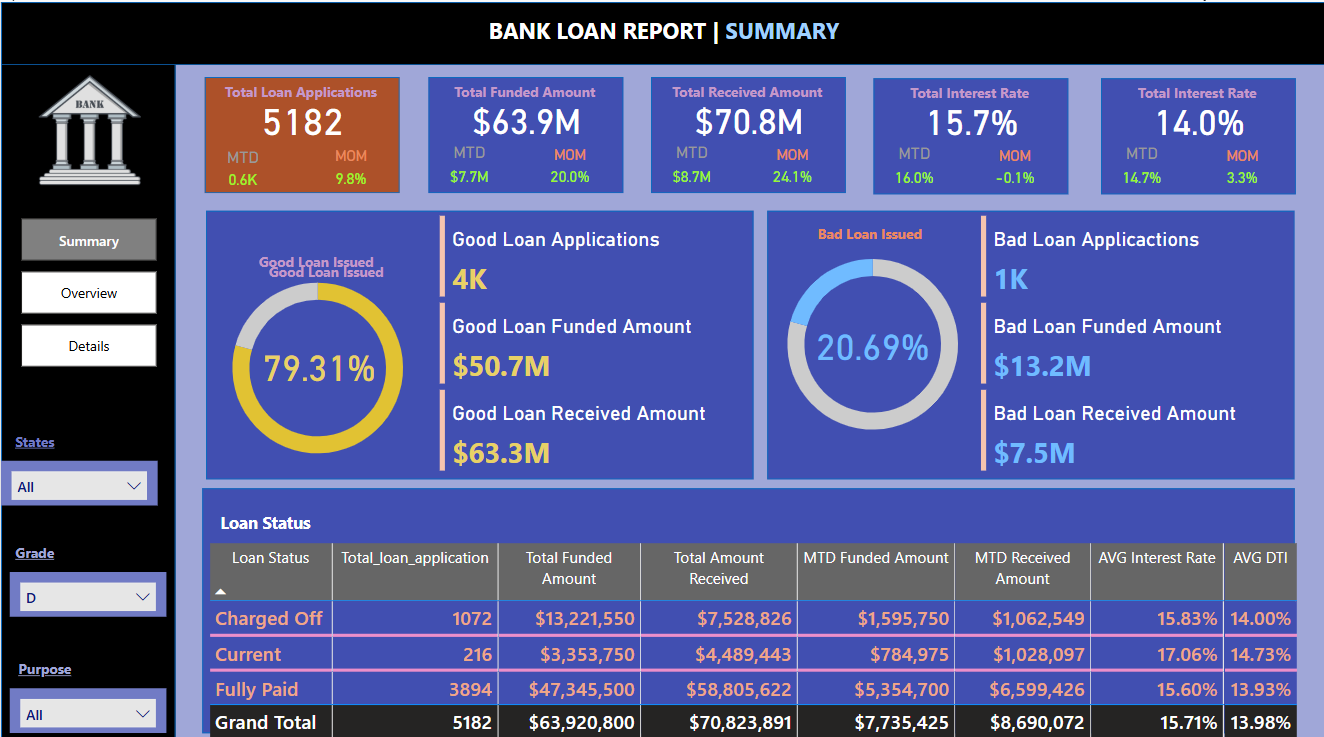

The dashboard page shown, as its layout file describes it:
{"tool":"powerbi","page":{"name":"Summary","canvas":[1280,720],"ordinal":0},"visuals":[{"type":"shape","box":[197.1,72.4,188.1,112.2],"z":0,"group":"g1"},{"type":"shape","box":[412.7,72.4,188.1,112.2],"z":0,"group":"g2"},{"type":"shape","box":[627.4,72.4,188.1,112.2],"z":0,"group":"g3"},{"type":"shape","box":[842.2,73.6,188.1,112.2],"z":0,"group":"g4"},{"type":"shape","box":[1061.8,73.6,188.1,112.2],"z":0,"group":"g5"},{"type":"shape","box":[194.2,469.3,1054.4,236.5],"z":0},{"type":"shape","box":[0,0,168.5,720.6],"z":1000},{"type":"card","fields":{"Values":["Bank_loan_data.Total_id"]},"box":[195.4,89.8,190.6,47.1],"z":1000,"group":"g1"},{"type":"card","fields":{"Values":["Bank_loan_data.Total Funded Amount"]},"box":[412.5,89.8,189.4,47.1],"z":1000,"group":"g2"},{"type":"card","fields":{"Values":["Bank_loan_data.Total Amount Received"]},"box":[627.2,89.8,189.4,47.1],"z":1000,"group":"g3"},{"type":"card","fields":{"Values":["Bank_loan_data.AVG Interest Rate"]},"box":[842,91,189.4,47.1],"z":1000,"group":"g4"},{"type":"card","fields":{"Values":["Bank_loan_data.AVG DTI"]},"box":[1061.6,91,189.4,47.1],"z":1000,"group":"g5"},{"type":"shape","box":[0,0,1280,61.1],"z":2000},{"type":"textbox","box":[195.9,72.4,188.1,31.4],"z":2000,"group":"g1"},{"type":"textbox","box":[411.4,72.4,188.1,31.4],"z":2000,"group":"g2"},{"type":"textbox","box":[626.1,72.4,188.1,31.4],"z":2000,"group":"g3"},{"type":"textbox","box":[840.9,73.6,188.1,31.4],"z":2000,"group":"g4"},{"type":"textbox","box":[1060.5,73.6,188.1,31.4],"z":2000,"group":"g5"},{"type":"textbox","box":[0,7.3,1280,44],"z":3000},{"type":"card","title":"MTD","fields":{"Values":["Bank_loan_data.MTD Funded Amount"]},"box":[416.4,136.9,71.2,49.5],"z":3000,"group":"g2"},{"type":"card","title":"MTD","fields":{"Values":["Bank_loan_data.MTD Received Amount"]},"box":[631.1,136.9,71.2,49.5],"z":3000,"group":"g3"},{"type":"card","title":"MTD","fields":{"Values":["Bank_loan_data.MTD AVG interest Rate"]},"box":[845.9,138.1,71.2,49.5],"z":3000,"group":"g4"},{"type":"card","title":"MTD","fields":{"Values":["Bank_loan_data.MTD avg DTI"]},"box":[1065.5,138.1,71.2,49.5],"z":3000,"group":"g5"},{"type":"card","title":"MTD","fields":{"Values":["Bank_loan_data.MTD Loan Applications"]},"box":[200.2,141.7,66.4,43.4],"z":3000,"group":"g1"},{"type":"card","title":"MOM","fields":{"Values":["Bank_loan_data.MOM Funded Amount"]},"box":[508.8,139.3,79.6,43.4],"z":4000,"group":"g2"},{"type":"card","title":"MOM","fields":{"Values":["Bank_loan_data.MOM Received Amount"]},"box":[723.5,139.3,79.6,43.4],"z":4000,"group":"g3"},{"type":"card","title":"MOM","fields":{"Values":["Bank_loan_data.MoM Loan Application"]},"box":[304.9,140.2,65.1,42.2],"z":4000,"group":"g1"},{"type":"card","title":"MOM","fields":{"Values":["Bank_loan_data.MOM Avg Int Rate"]},"box":[938.3,140.5,79.6,43.4],"z":4000,"group":"g4"},{"type":"card","title":"MOM","fields":{"Values":["Bank_loan_data.MOM AVG DTI"]},"box":[1157.9,140.5,79.6,43.4],"z":4000,"group":"g5"},{"type":"textbox","box":[0,410.2,65.1,32.6],"z":4000},{"type":"textbox","box":[196.6,486.2,117,31.4],"z":5000},{"type":"group","id":"g1","title":"Group 1","box":[195.4,72.4,190.6,113.4],"z":6000},{"type":"group","id":"g2","title":"Group 1","box":[411.4,72.4,190.6,113.4],"z":7000},{"type":"group","id":"g3","title":"Group 1","box":[626.1,72.4,190.6,114.6],"z":8000},{"type":"group","id":"g4","title":"Group 1","box":[840.9,73.6,190.6,113.4],"z":9000},{"type":"group","id":"g5","title":"Group 1","box":[1060.5,73.6,190.6,113.4],"z":10000},{"type":"shape","box":[197.9,201.5,528.4,259.4],"z":11000},{"type":"shape","box":[739.5,201.5,509.1,259.4],"z":12000},{"type":"donutChart","fields":{"Category":["Bank_loan_data.Good Vs Bad Loan"],"Y":["CountNonNull(Bank_loan_data.Good Vs Bad Loan)"]},"box":[197.9,224.4,216,258.2],"z":13000},{"type":"card","fields":{"Values":["Bank_loan_data.Good Loan %"]},"box":[243.7,311.3,126.7,78.4],"z":14000},{"type":"cardVisual","fields":{"Data":["Bank_loan_data.Good Loan Applications","Bank_loan_data.Good Loan Funded Amount","Bank_loan_data.Good Loan Received Amount"]},"box":[418.6,201.5,307.6,258.2],"z":15000},{"type":"textbox","box":[243.7,236.5,139.9,30.2],"z":16000},{"type":"donutChart","fields":{"Category":["Bank_loan_data.Good Vs Bad Loan"],"Y":["CountNonNull(Bank_loan_data.Good Vs Bad Loan)"]},"box":[733.5,201.5,216,258.2],"z":17000},{"type":"card","fields":{"Values":["Bank_loan_data.Bad Loan %"]},"box":[778.2,290.8,126.7,78.4],"z":18000},{"type":"cardVisual","fields":{"Data":["Bank_loan_data.Bad Loan Applicactions","Bank_loan_data.Bad Loan Funded Amount","Bank_loan_data.Bad Loan Received Amount"]},"box":[941,201.5,307.6,258.2],"z":19000},{"type":"textbox","box":[783,209.9,121.9,30.2],"z":20000},{"type":"tableEx","fields":{"Values":["Bank_loan_data.loan_status","Bank_loan_data.Total_loan_application","Bank_loan_data.Total Funded Amount","Bank_loan_data.Total Amount Received","Bank_loan_data.MTD Funded Amount","Bank_loan_data.MTD Received Amount","Bank_loan_data.AVG Interest Rate","Bank_loan_data.AVG DTI"]},"box":[195.4,517.6,1061.7,202.7],"z":21000},{"type":"slicer","fields":{"Values":["Bank_loan_data.address_state"]},"box":[0,442.8,150.8,43.4],"z":22000},{"type":"slicer","fields":{"Values":["Bank_loan_data.purpose"]},"box":[8.4,662.3,150.8,43.4],"z":23000},{"type":"textbox","box":[253.7,246.5,139.9,30.2],"z":24000},{"type":"slicer","fields":{"Values":["Bank_loan_data.grade"]},"box":[8.4,550.1,150.8,43.4],"z":25000},{"type":"textbox","box":[0,629.8,84.5,32.6],"z":26000},{"type":"textbox","box":[0,517.6,65.1,32.6],"z":27000},{"type":"image","box":[10.9,44.6,149.6,156.8],"z":28000},{"type":"pageNavigator","box":[19.5,208.9,131.9,144.1],"z":29000}]}

Visuals, with their boxes in screenshot pixels (x1, y1, x2, y2), scaled from the page's 1280x720 canvas onto the 1324x737 screenshot:
shape: bbox(204, 74, 398, 189)
shape: bbox(427, 74, 621, 189)
shape: bbox(649, 74, 844, 189)
shape: bbox(871, 75, 1066, 190)
shape: bbox(1098, 75, 1293, 190)
shape: bbox(201, 480, 1292, 722)
shape: bbox(0, 0, 174, 736)
card - Bank_loan_data.Total_id: bbox(202, 92, 399, 140)
card - Bank_loan_data.Total Funded Amount: bbox(427, 92, 623, 140)
card - Bank_loan_data.Total Amount Received: bbox(649, 92, 845, 140)
card - Bank_loan_data.AVG Interest Rate: bbox(871, 93, 1067, 141)
card - Bank_loan_data.AVG DTI: bbox(1098, 93, 1294, 141)
shape: bbox(0, 0, 1323, 63)
textbox: bbox(203, 74, 397, 106)
textbox: bbox(426, 74, 620, 106)
textbox: bbox(648, 74, 842, 106)
textbox: bbox(870, 75, 1064, 107)
textbox: bbox(1097, 75, 1292, 107)
textbox: bbox(0, 7, 1323, 53)
"MTD" card: bbox(431, 140, 504, 191)
"MTD" card: bbox(653, 140, 726, 191)
"MTD" card: bbox(875, 141, 949, 192)
"MTD" card: bbox(1102, 141, 1176, 192)
"MTD" card: bbox(207, 145, 276, 189)
"MOM" card: bbox(526, 143, 609, 187)
"MOM" card: bbox(748, 143, 831, 187)
"MOM" card: bbox(315, 144, 383, 187)
"MOM" card: bbox(971, 144, 1053, 188)
"MOM" card: bbox(1198, 144, 1280, 188)
textbox: bbox(0, 420, 67, 453)
textbox: bbox(203, 498, 324, 530)
"Group 1" group: bbox(202, 74, 399, 190)
"Group 1" group: bbox(426, 74, 623, 190)
"Group 1" group: bbox(648, 74, 845, 191)
"Group 1" group: bbox(870, 75, 1067, 191)
"Group 1" group: bbox(1097, 75, 1294, 191)
shape: bbox(205, 206, 751, 472)
shape: bbox(765, 206, 1292, 472)
donutChart - Bank_loan_data.Good Vs Bad Loan x CountNonNull(Bank_loan_data.Good Vs Bad Loan): bbox(205, 230, 428, 494)
card - Bank_loan_data.Good Loan %: bbox(252, 319, 383, 399)
cardVisual - Bank_loan_data.Good Loan Applications x Bank_loan_data.Good Loan Funded Amount: bbox(433, 206, 751, 471)
textbox: bbox(252, 242, 397, 273)
donutChart - Bank_loan_data.Good Vs Bad Loan x CountNonNull(Bank_loan_data.Good Vs Bad Loan): bbox(759, 206, 982, 471)
card - Bank_loan_data.Bad Loan %: bbox(805, 298, 936, 378)
cardVisual - Bank_loan_data.Bad Loan Applicactions x Bank_loan_data.Bad Loan Funded Amount: bbox(973, 206, 1292, 471)
textbox: bbox(810, 215, 936, 246)
tableEx - Bank_loan_data.loan_status x Bank_loan_data.Total_loan_application: bbox(202, 530, 1300, 736)
slicer - Bank_loan_data.address_state: bbox(0, 453, 156, 498)
slicer - Bank_loan_data.purpose: bbox(9, 678, 165, 722)
textbox: bbox(262, 252, 407, 283)
slicer - Bank_loan_data.grade: bbox(9, 563, 165, 608)
textbox: bbox(0, 645, 87, 678)
textbox: bbox(0, 530, 67, 563)
image: bbox(11, 46, 166, 206)
pageNavigator: bbox(20, 214, 157, 361)
